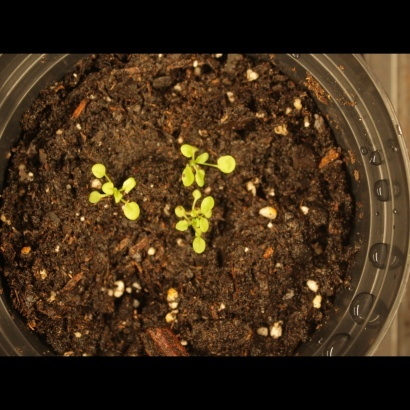leaf: (216, 152, 241, 176), (87, 157, 110, 180), (121, 199, 144, 222), (82, 187, 105, 210), (121, 173, 144, 196), (99, 176, 122, 199), (189, 235, 212, 258), (175, 137, 198, 160), (175, 166, 198, 189), (195, 167, 218, 190), (196, 141, 219, 164), (168, 220, 191, 243), (167, 198, 190, 221), (183, 183, 206, 206), (200, 193, 223, 216), (191, 215, 214, 238)
